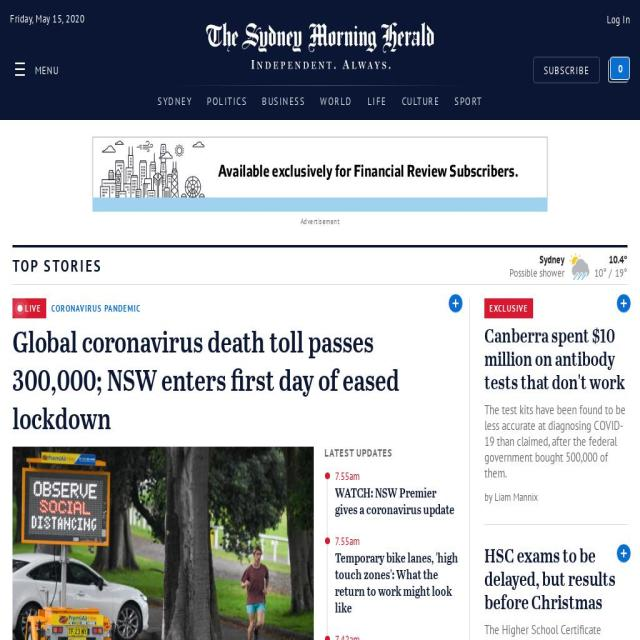button: (12, 446, 314, 640), (327, 539, 470, 618), (204, 21, 436, 54), (327, 474, 470, 519), (510, 253, 628, 280), (5, 53, 69, 85), (533, 57, 600, 83), (597, 4, 640, 34), (608, 290, 634, 323), (608, 540, 634, 573), (441, 290, 466, 323), (610, 57, 630, 80), (327, 637, 470, 640)
heading: (12, 325, 460, 440), (483, 325, 628, 395), (484, 545, 616, 615), (334, 551, 460, 617), (204, 21, 436, 54), (334, 486, 460, 519), (12, 255, 102, 277), (324, 447, 470, 459), (51, 303, 141, 315), (489, 304, 528, 314), (25, 303, 41, 314)
iframe: (92, 136, 548, 212)
image: (12, 446, 314, 640), (448, 293, 463, 312), (616, 293, 630, 312), (616, 543, 630, 562)
link: (327, 468, 470, 484), (327, 533, 470, 549), (327, 631, 470, 640), (510, 253, 564, 267), (510, 267, 564, 280), (262, 94, 306, 108), (207, 94, 247, 108), (402, 94, 439, 108), (158, 94, 192, 108), (594, 253, 628, 267), (320, 94, 353, 108), (454, 94, 484, 108), (594, 266, 615, 280), (367, 94, 387, 108), (615, 266, 627, 280)
text: (483, 402, 628, 481), (0, 217, 640, 225), (483, 621, 627, 640), (250, 58, 390, 71), (36, 12, 84, 26), (494, 490, 538, 504), (570, 253, 590, 280), (10, 12, 36, 26), (35, 64, 59, 78), (484, 490, 494, 504), (618, 61, 622, 76)
